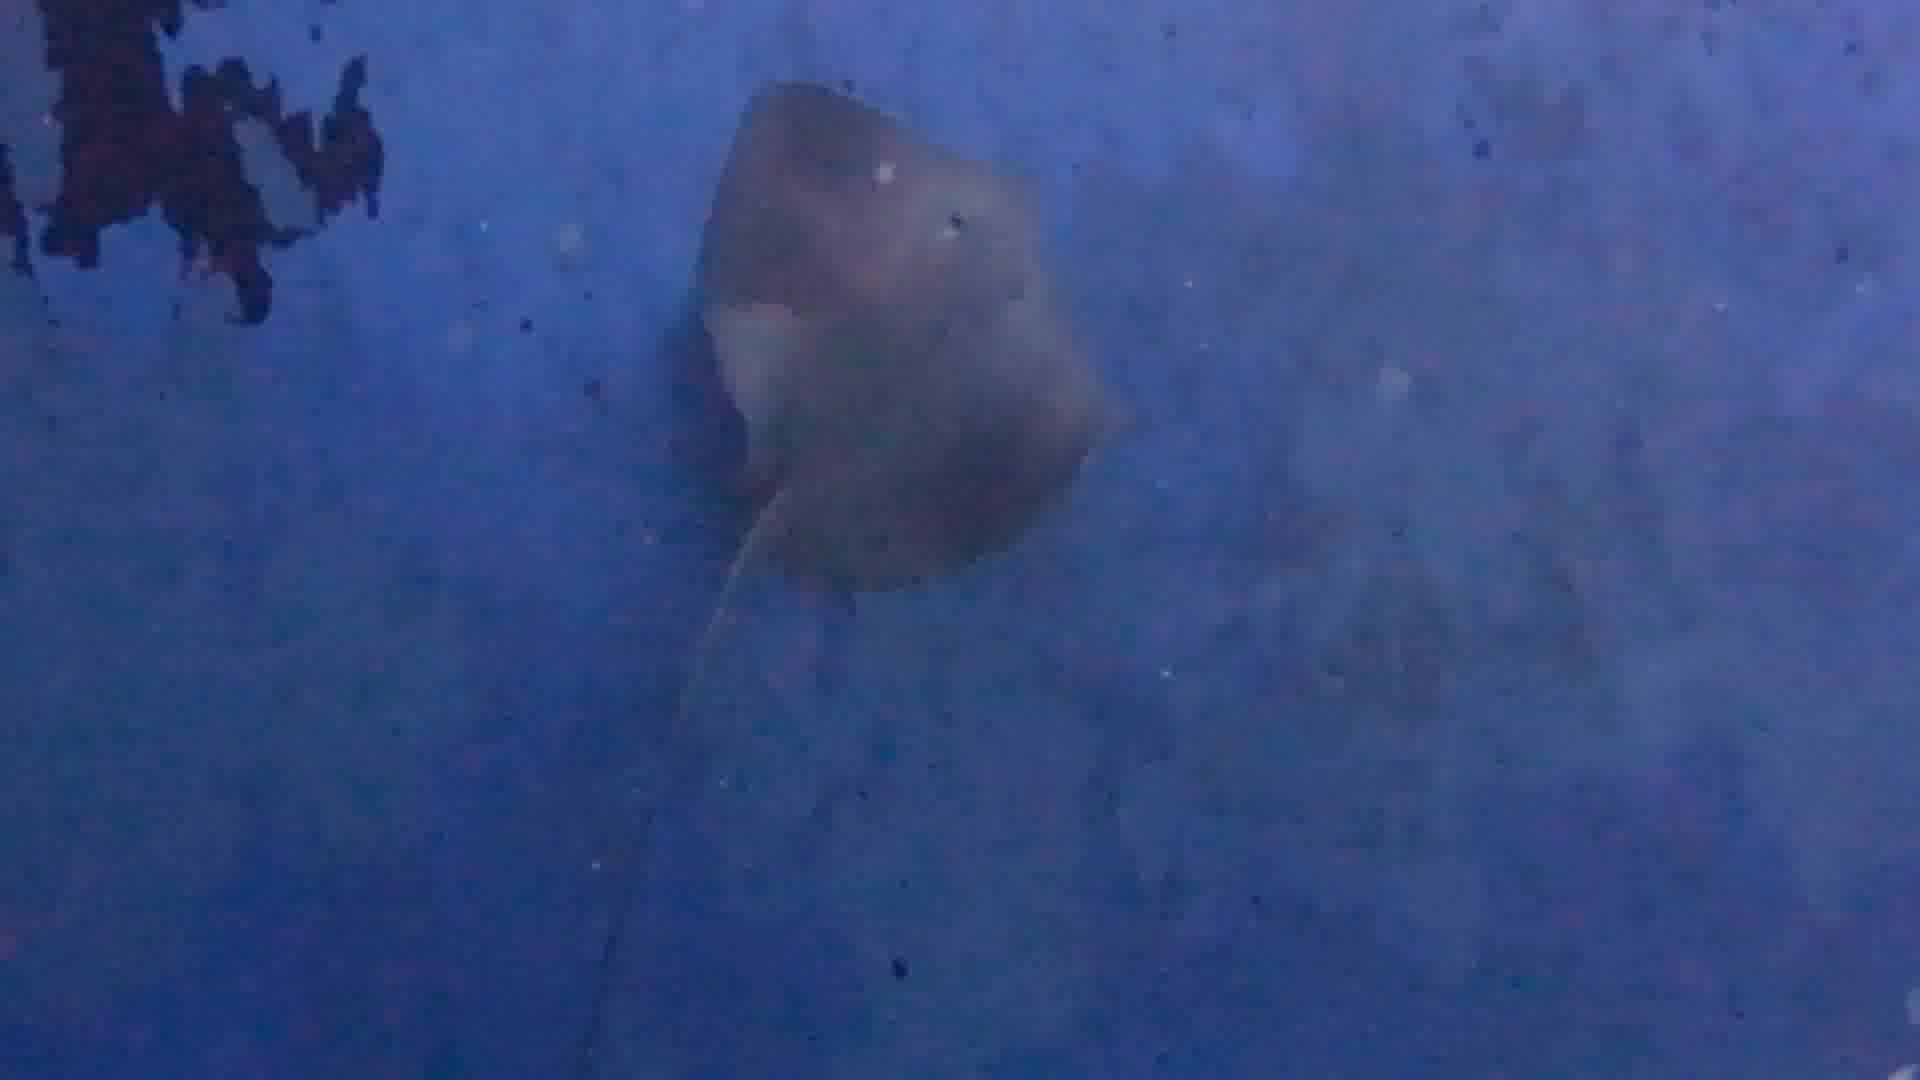Himantura gerrardi: (556, 62, 1131, 1080)
